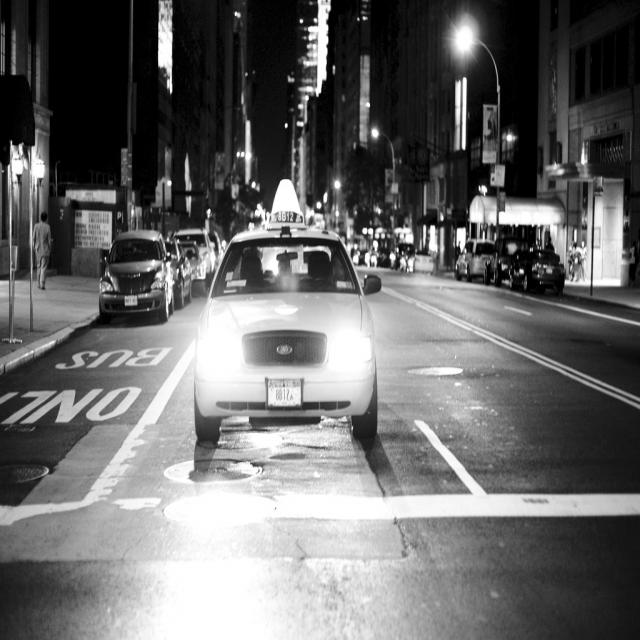other: (194, 177, 382, 448), (98, 230, 174, 323), (483, 235, 533, 286), (175, 228, 216, 288), (508, 250, 566, 292), (454, 237, 495, 283), (164, 241, 192, 307)
